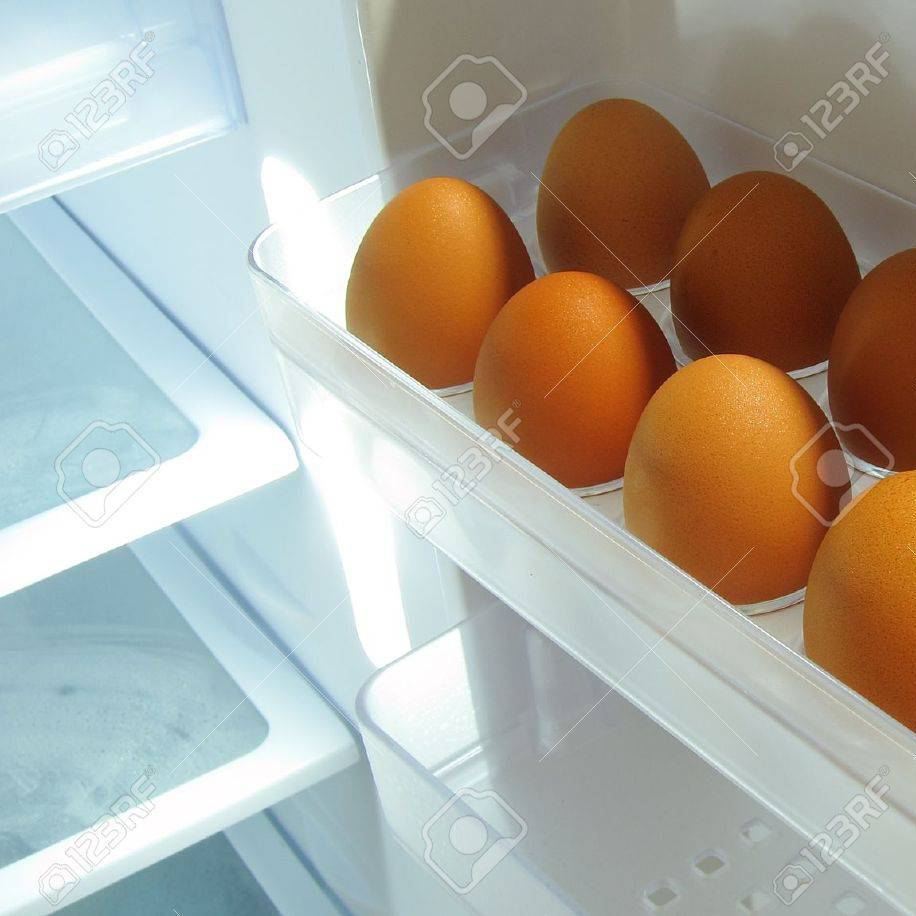egg: (341, 98, 916, 732)
